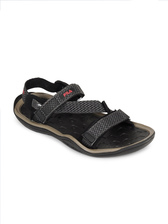shoes: (11, 76, 156, 156)
